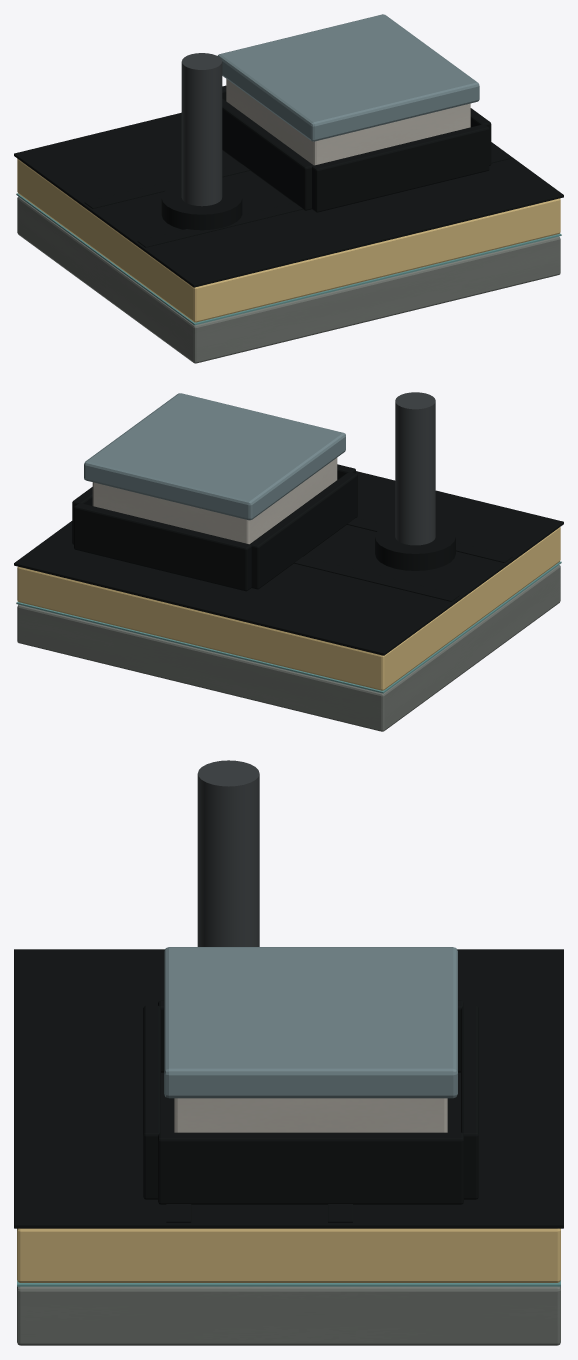
The model's file is modell.glb.
3 views of the same model, one above another, from view 1: azimuth 30°, elevation 25°; view 2: azimuth 150°, elevation 25°; view 3: azimuth 270°, elevation 25° (orthographic). The views are drawn at different scales.
Visible parts, largest first — view 1: f08-abdichtung_deckung, f08-untergrund_tragwerk, f08-lichtkuppel_.001, f08-daemmung_daemmung, f08-anschluss_deckung.001, f08-rohr_, f08-lichtkuppel_, f08-anschluss_deckung, f08-naht_deckung, f08-luftdichtheit_luftdichtheit; view 2: f08-abdichtung_deckung, f08-untergrund_tragwerk, f08-lichtkuppel_.001, f08-daemmung_daemmung, f08-anschluss_deckung.001, f08-rohr_, f08-lichtkuppel_, f08-anschluss_deckung, f08-naht_deckung, f08-luftdichtheit_luftdichtheit; view 3: f08-abdichtung_deckung, f08-lichtkuppel_.001, f08-untergrund_tragwerk, f08-daemmung_daemmung, f08-anschluss_deckung.001, f08-rohr_, f08-lichtkuppel_, f08-luftdichtheit_luftdichtheit, f08-naht_deckung.
Part boxes in pixels (left/top/right/bottom): f08-abdichtung_deckung: left=14, top=112, right=563, bottom=287; f08-untergrund_tragwerk: left=17, top=196, right=560, bottom=363; f08-lichtkuppel_.001: left=217, top=14, right=479, bottom=141; f08-daemmung_daemmung: left=17, top=158, right=560, bottom=322; f08-anschluss_deckung.001: left=222, top=85, right=491, bottom=212; f08-rohr_: left=181, top=53, right=222, bottom=206; f08-lichtkuppel_: left=226, top=79, right=470, bottom=165; f08-anschluss_deckung: left=161, top=183, right=242, bottom=230; f08-naht_deckung: left=84, top=151, right=512, bottom=247; f08-luftdichtheit_luftdichtheit: left=16, top=193, right=561, bottom=325; f08-abdichtung_deckung: left=14, top=471, right=563, bottom=655; f08-untergrund_tragwerk: left=17, top=565, right=560, bottom=731; f08-lichtkuppel_.001: left=84, top=393, right=345, bottom=520; f08-daemmung_daemmung: left=17, top=527, right=560, bottom=690; f08-anschluss_deckung.001: left=72, top=464, right=357, bottom=591; f08-rohr_: left=395, top=392, right=435, bottom=545; f08-lichtkuppel_: left=92, top=458, right=337, bottom=544; f08-anschluss_deckung: left=375, top=522, right=455, bottom=570; f08-naht_deckung: left=294, top=518, right=512, bottom=601; f08-luftdichtheit_luftdichtheit: left=16, top=561, right=561, bottom=693; f08-abdichtung_deckung: left=14, top=949, right=563, bottom=1228; f08-lichtkuppel_.001: left=164, top=947, right=457, bottom=1098; f08-untergrund_tragwerk: left=17, top=1286, right=560, bottom=1345; f08-daemmung_daemmung: left=17, top=1228, right=560, bottom=1282; f08-anschluss_deckung.001: left=143, top=1000, right=478, bottom=1204; f08-rohr_: left=197, top=760, right=259, bottom=946; f08-lichtkuppel_: left=174, top=1098, right=447, bottom=1132; f08-luftdichtheit_luftdichtheit: left=17, top=1280, right=560, bottom=1286; f08-naht_deckung: left=166, top=1097, right=352, bottom=1222.
Bounding box in the file's own units: 2.22 × 1.34 × 1.87.
Materials: 7 (2 with a texture image).
